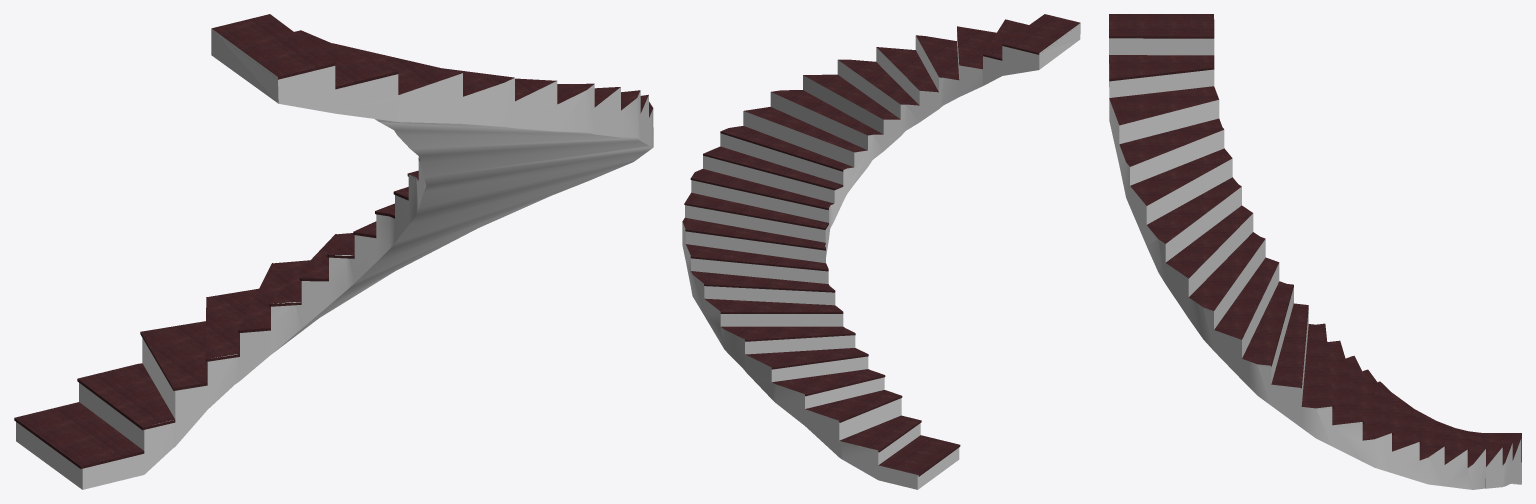
3 renders of one model, left to right at view 1: azimuth 30°, elevation 25°; view 2: azimuth 150°, elevation 25°; view 3: azimuth 270°, elevation 25°, orthographic. The views are drawn at different scales.
Visible parts, largest first — view 1: Component_5_1; view 2: Component_5_1; view 3: Component_5_1.
Part boxes in pixels (x1,y1,x2,y2): Component_5_1: (14, 14, 653, 489); Component_5_1: (682, 14, 1080, 489); Component_5_1: (1109, 14, 1521, 489).
Size of the model in its own units: 2810 by 3050 by 2600.
3 materials, 1 textured.
